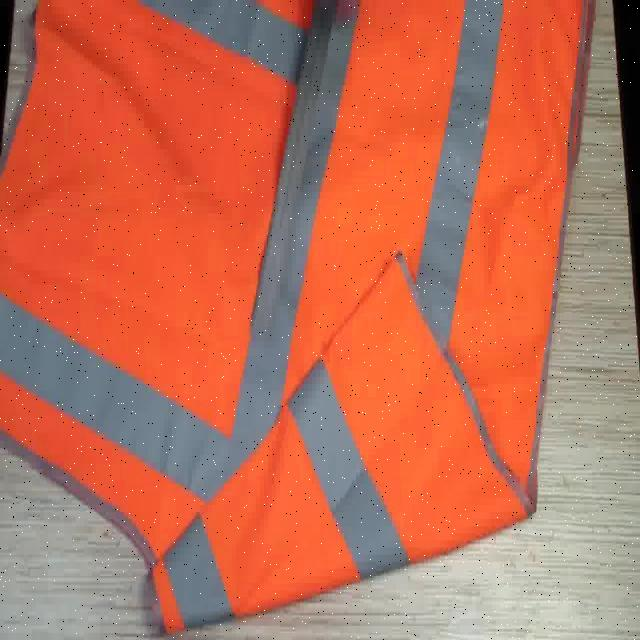Vest: (3, 5, 295, 616)
